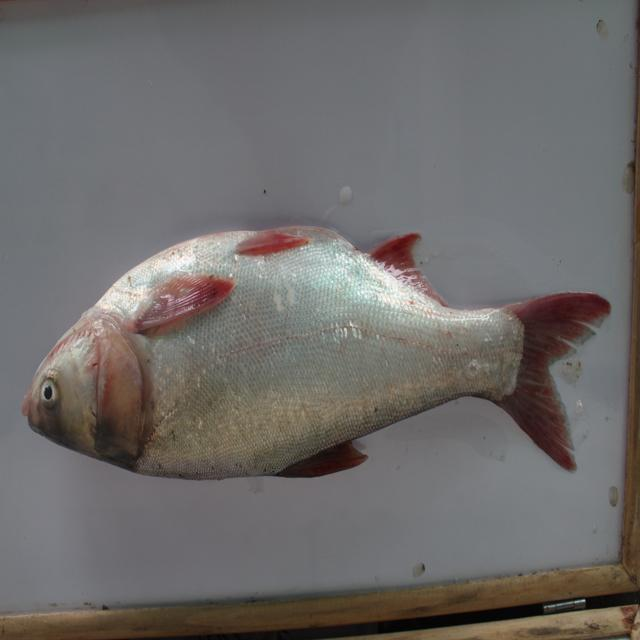SilverCarp: (35, 215, 594, 499)
